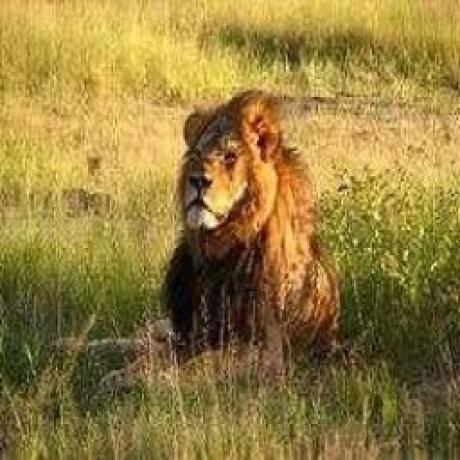Lion: (156, 91, 345, 369)
